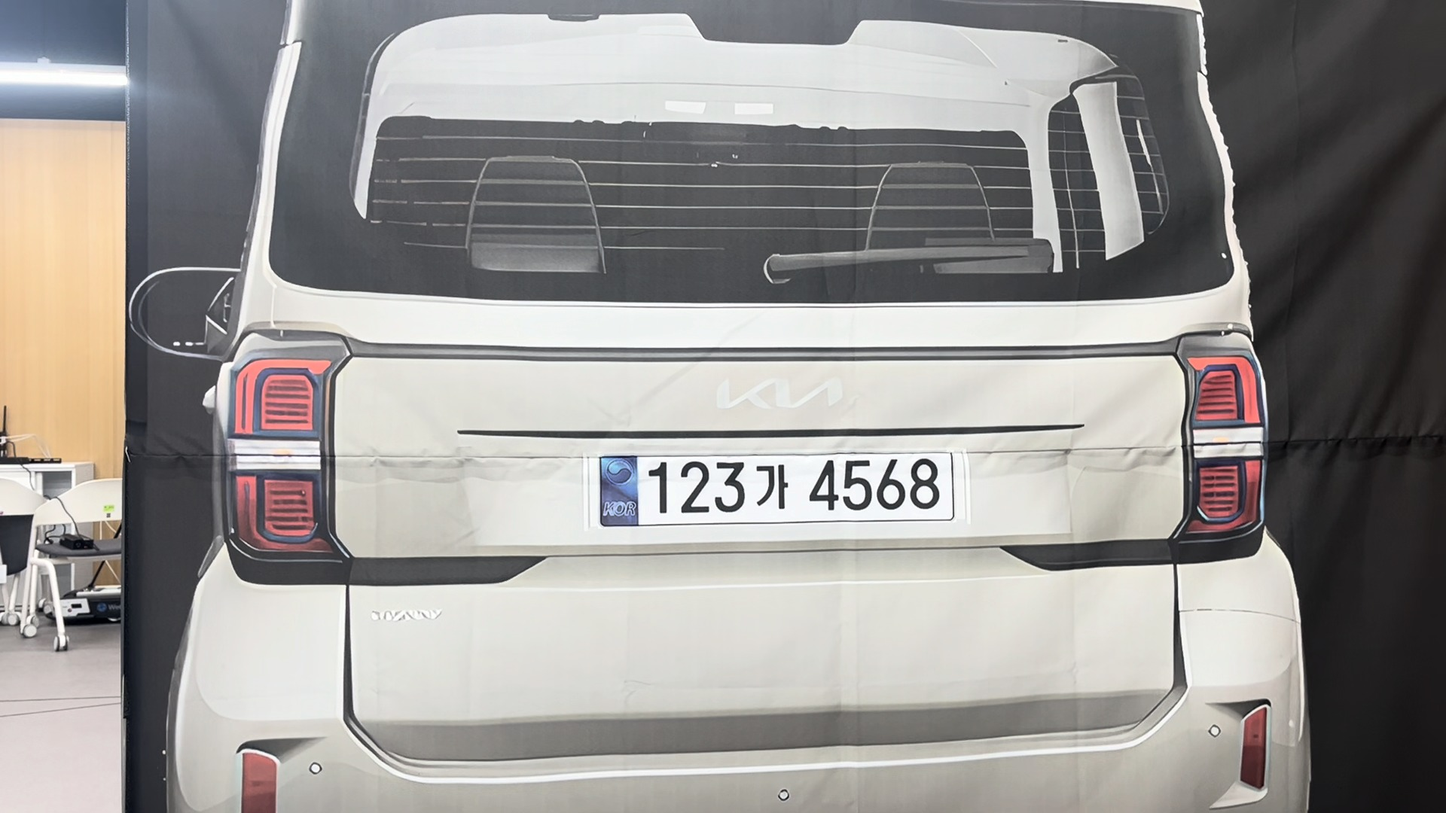car_emblem: (716, 379, 842, 409)
license_plate: (599, 452, 954, 525)
side_mirror: (127, 267, 239, 359)
tail_light: (226, 355, 339, 555), (1181, 336, 1266, 541), (1239, 705, 1268, 790), (239, 749, 278, 812)
